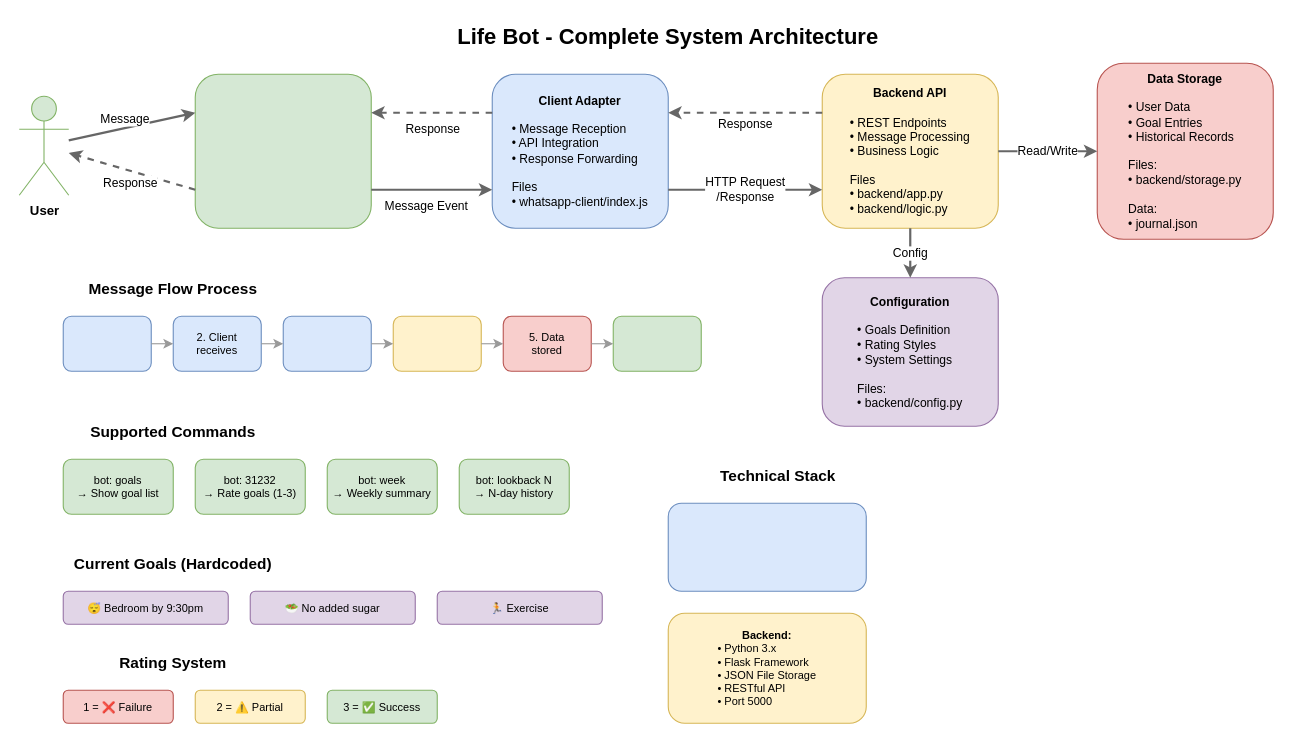
Some shapes in this 1293 by 743 pixel diagram are drawn without their labels. Here are the shapes that lost their labels. From the top down, the centre of each, then its label:
At point (282, 150): "Messaging Clients • WhatsApp (current) • Telegram • Messenger".
At point (106, 343): "1. User sends message".
At point (326, 343): "3. Client processes".
At point (436, 343): "4. Backend processes".
At point (656, 343): "6. Response sent back".
At point (766, 546): "Frontend (Client Adapter): • Node.js • Messaging API Integration • HTTP Client".
